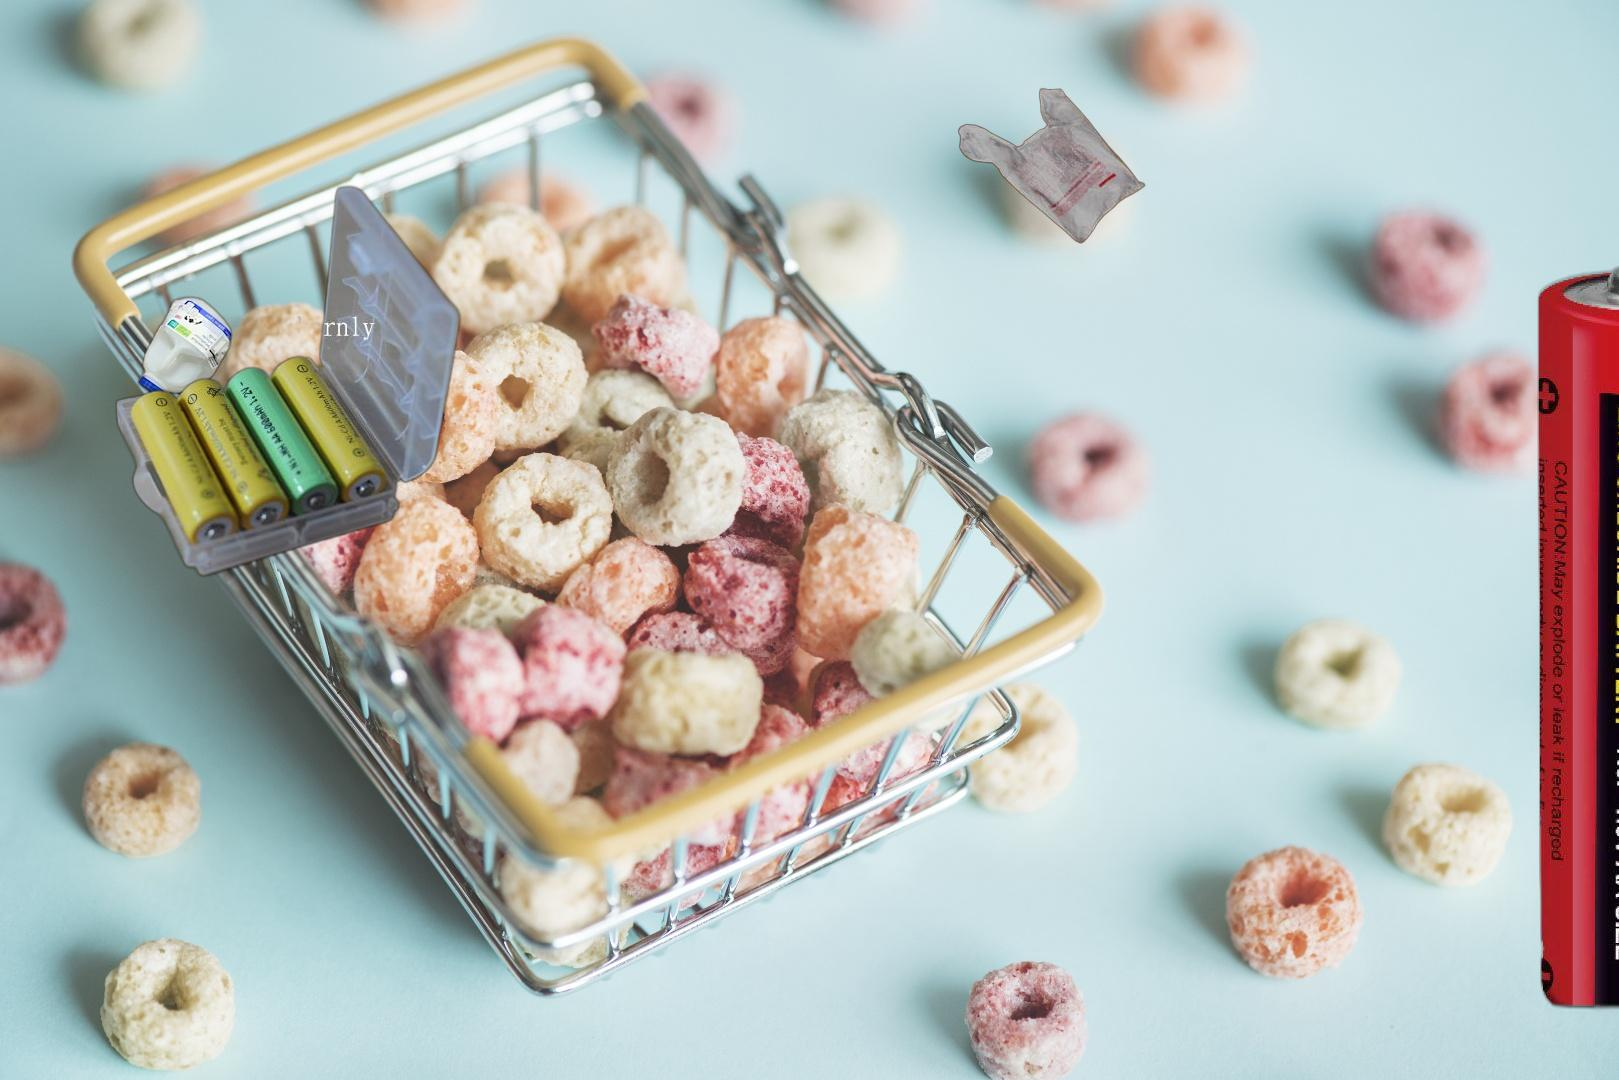battery: (111, 182, 465, 581), (1535, 258, 1619, 1017)
plastic-bag: (955, 86, 1148, 246)
plastic-bottles: (134, 290, 237, 405)
